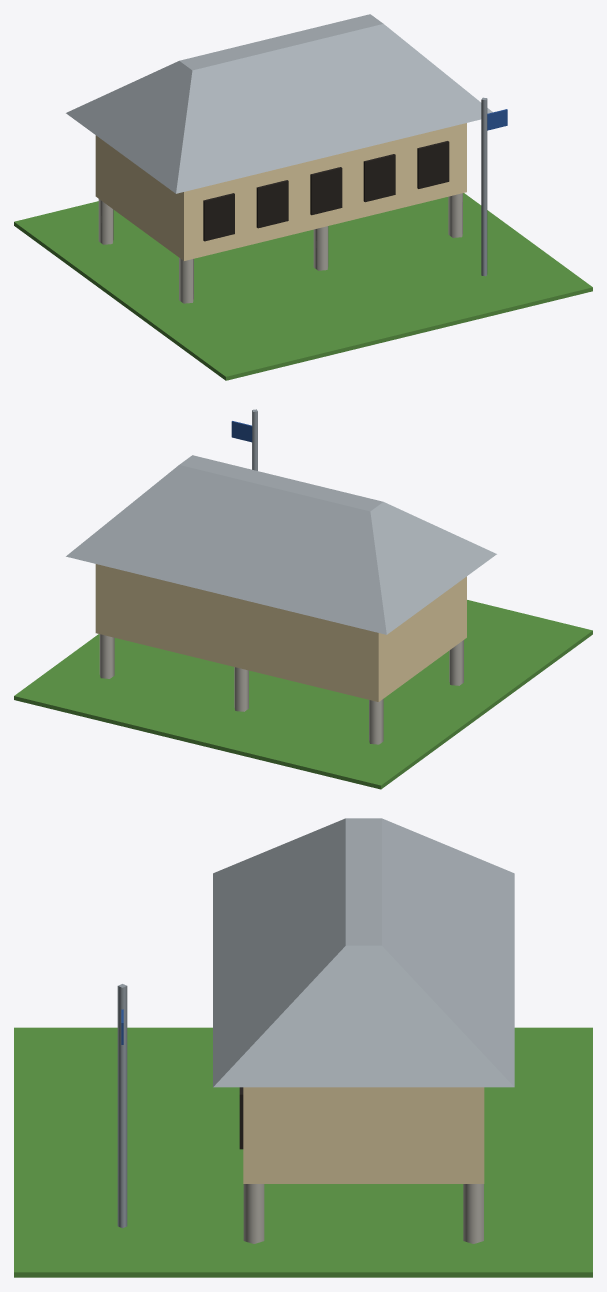
Rendered from building_sekolah.glb.
3 renders of one model, top to bottom at view 1: azimuth 30°, elevation 25°; view 2: azimuth 150°, elevation 25°; view 3: azimuth 270°, elevation 25°, orthographic. The views are drawn at different scales.
Parts seen in each view (by area): view 1: building_sekolah; view 2: building_sekolah; view 3: building_sekolah.
Boxes of the visible parts, bbox=[...] form: building_sekolah: bbox=[14, 14, 592, 380]; building_sekolah: bbox=[14, 409, 592, 789]; building_sekolah: bbox=[14, 818, 592, 1277].
Size of the model in its own units: 0.96 by 0.5 by 0.96.
